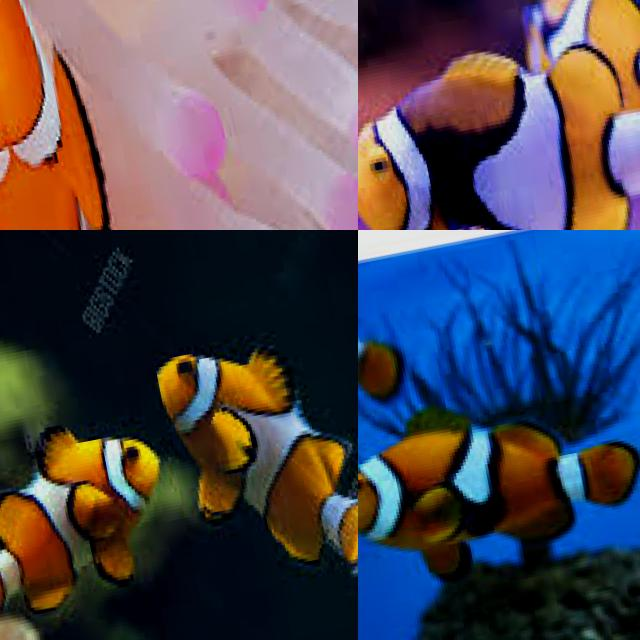Amphiprion-percula: (130, 284, 358, 640), (358, 379, 640, 627), (358, 0, 640, 230), (0, 0, 271, 230), (0, 374, 191, 640), (358, 247, 539, 468), (467, 0, 640, 185)
